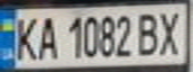0: (81, 11, 100, 58)
1: (63, 11, 84, 60)
2: (115, 11, 136, 58)
8: (100, 11, 118, 58)
A: (33, 12, 60, 61)
B: (136, 9, 163, 56)
K: (9, 12, 42, 62)
X: (154, 7, 187, 56)
